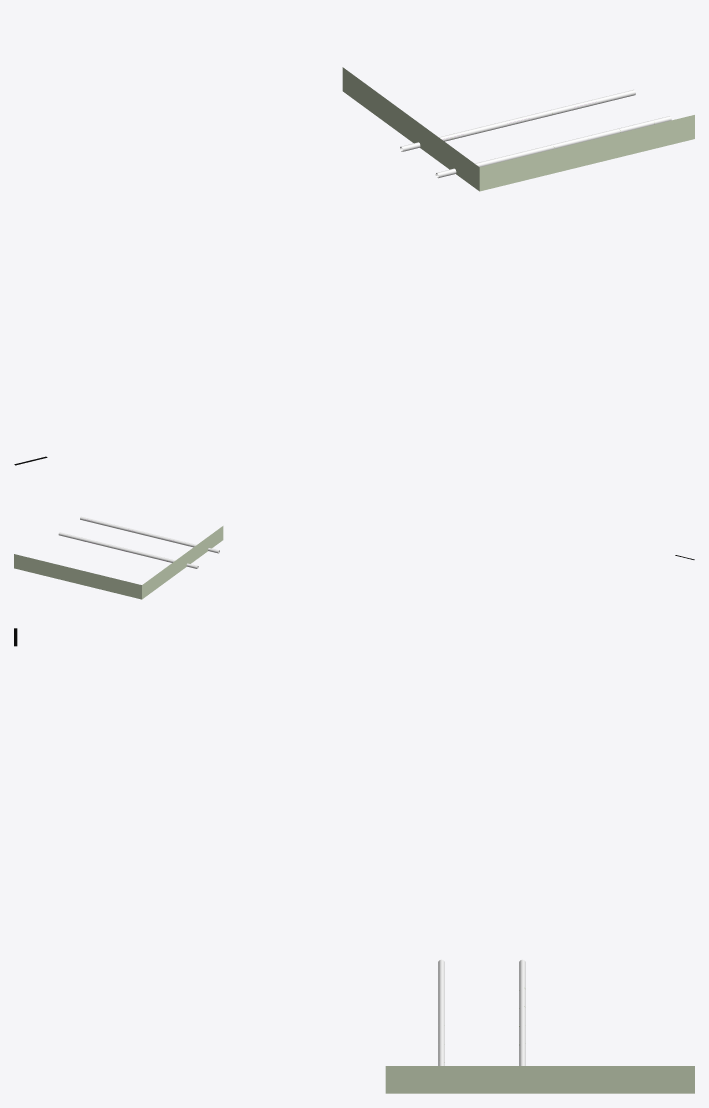
The model's file is tunnel_model.glb.
3 renders of one model, top to bottom at view 1: azimuth 30°, elevation 25°; view 2: azimuth 150°, elevation 25°; view 3: azimuth 270°, elevation 25°, orthographic. The views are drawn at different scales.
Visible parts, largest first — view 1: Box001, TA, TB; view 2: Box001, TA, TB; view 3: Box001, TB, TA.
Part boxes in pixels (x1,y1,x2,y2): Box001: [342, 67, 694, 191]; TA: [400, 89, 635, 151]; TB: [435, 116, 671, 178]; Box001: [14, 526, 223, 599]; TA: [58, 532, 198, 568]; TB: [80, 516, 219, 553]; Box001: [385, 1066, 694, 1093]; TB: [438, 959, 444, 1065]; TA: [519, 959, 525, 1065].
Size of the model in its own units: 1807 by 49.68 by 1118.
